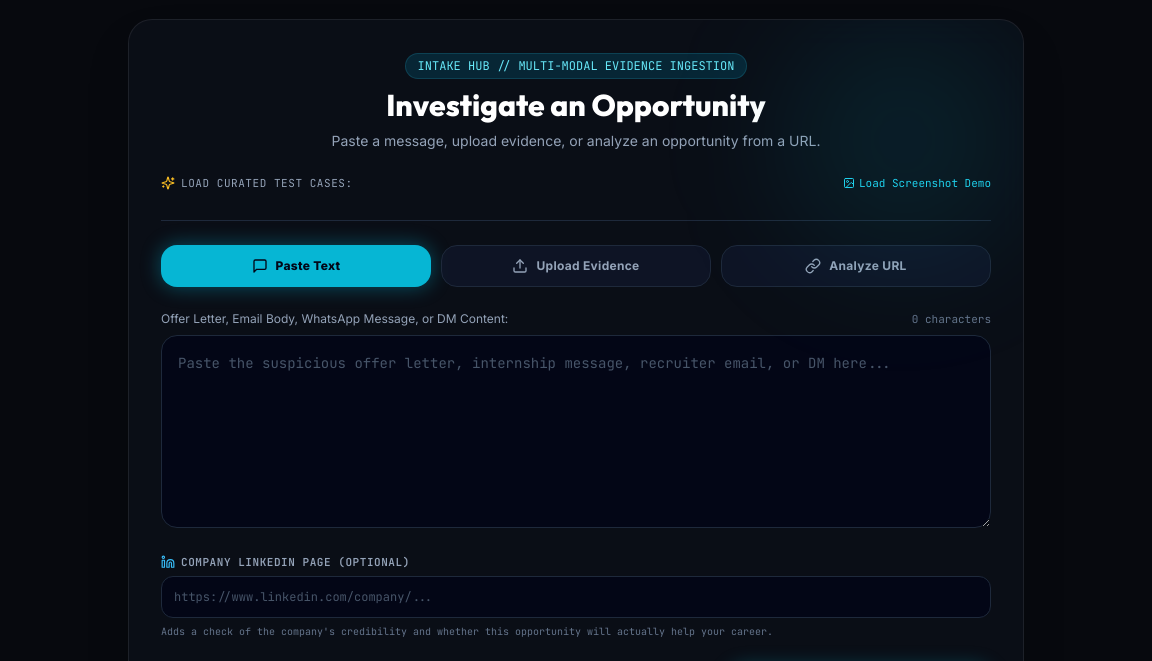
it: OpportunityIntake › rejects a link that is not a LinkedIn URL
Replace the text in the text box named "Opportunity text" with "Congratulations! Pay Rs 2,999 registration fee within 24 hours to confirm your internship." at coordinates (576, 431), box [161,334,991,528]
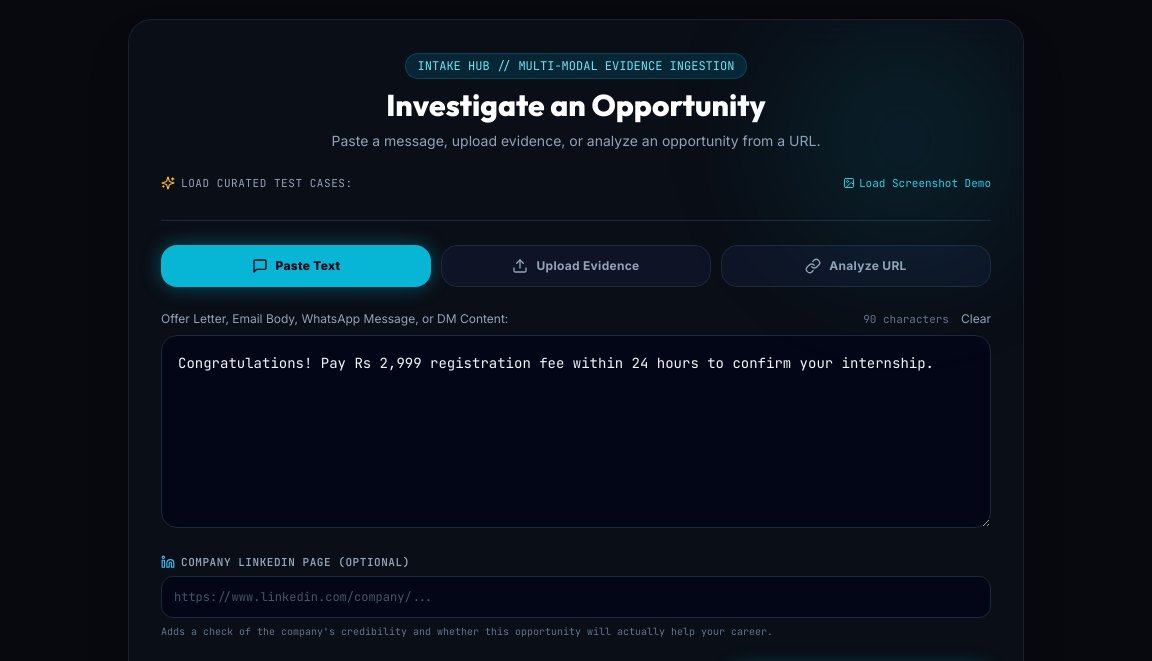
Type "https://linkedin.fake.com/company/x" into the field labelled "Company LinkedIn page (optional)".
click(576, 597); type("https://linkedin.fake.com/company/x")  # box [161,576,991,618]
(page scrolled)
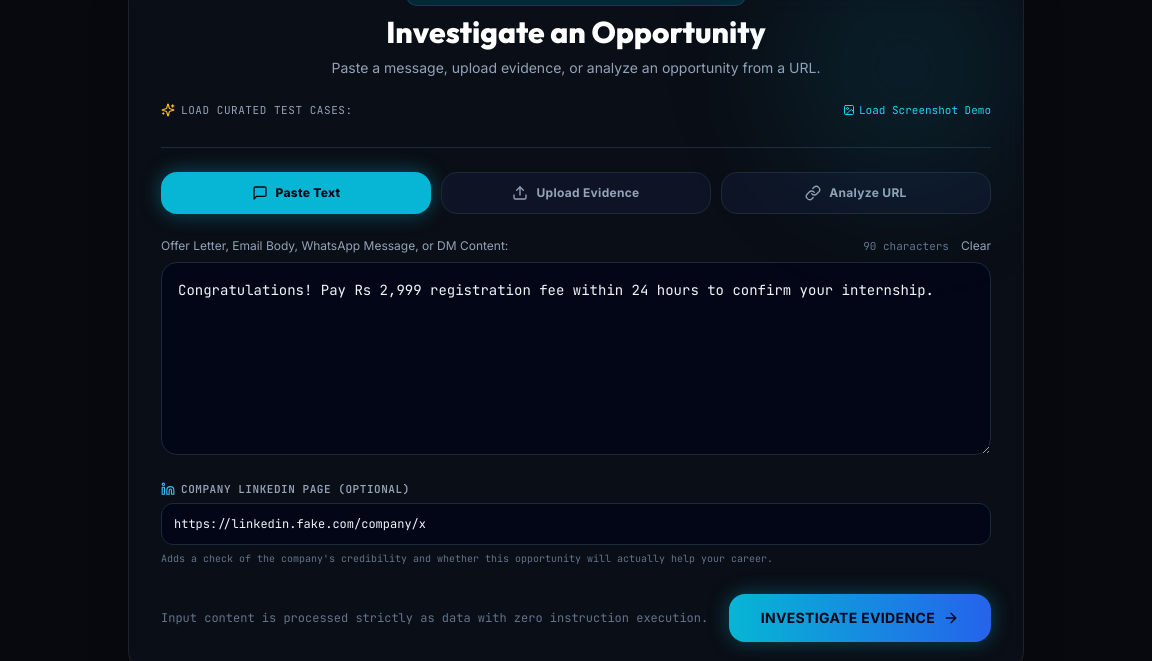
Submit the form named "Opportunity text", box [161,238,991,642]
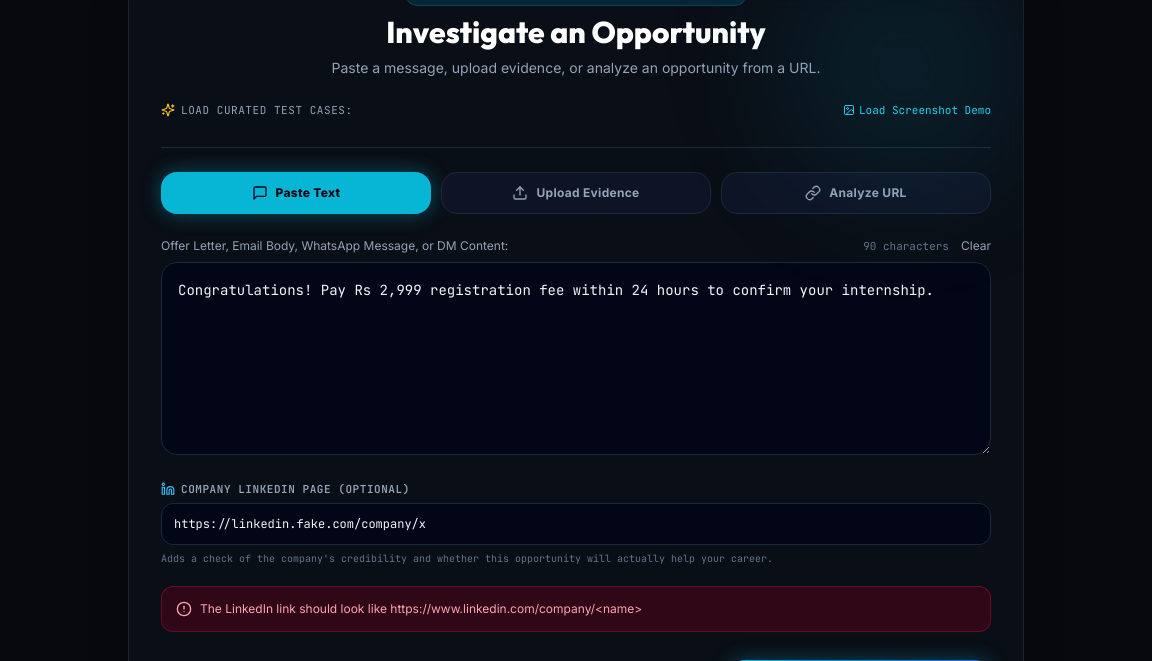
Expected: the text "should look like https://www.linkedin.com/company" is shown, [200,601,642,616]
